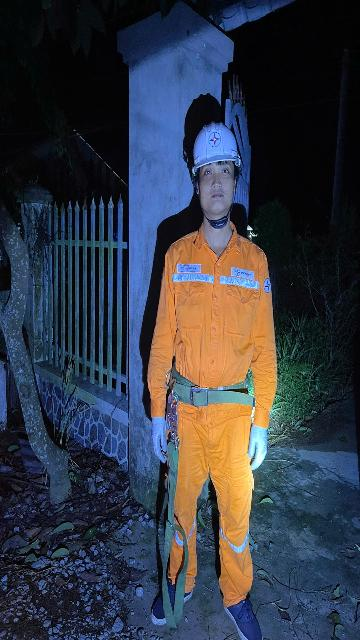gloves: (138, 409, 177, 467), (246, 415, 271, 474)
harness: (158, 363, 271, 406)
helmet: (169, 116, 254, 176)
shoes: (217, 587, 273, 640), (143, 581, 203, 625)
